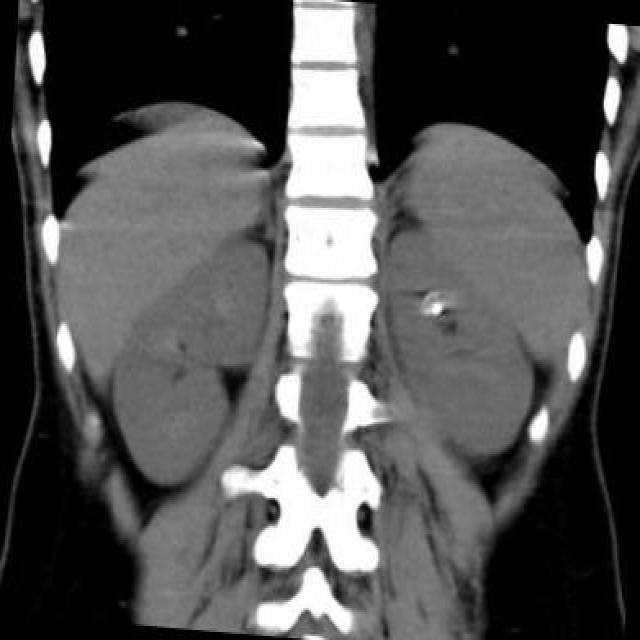Tas_Var: (426, 300, 445, 320)
